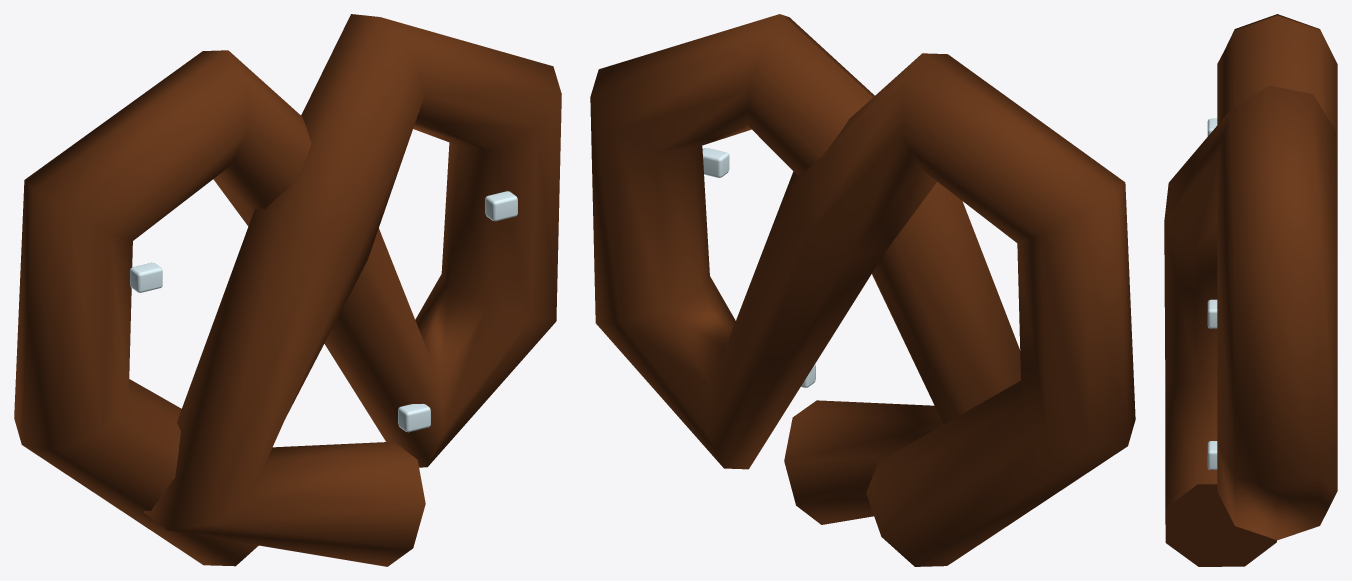
Rendered from pretzel.glb.
3 renders of one model, left to right at view 1: azimuth 30°, elevation 25°; view 2: azimuth 150°, elevation 25°; view 3: azimuth 270°, elevation 25°, orthographic. The views are drawn at different scales.
Parts seen in each view (by area): view 1: pretzel; view 2: pretzel; view 3: pretzel.
Boxes of the visible parts, <box> form: pretzel: <box>14,14,561,566</box>; pretzel: <box>590,14,1135,566</box>; pretzel: <box>1164,14,1337,566</box>.
Size of the model in its own units: 1 by 0.9273 by 0.2942.
Materials: 1 (1 with a texture image).
